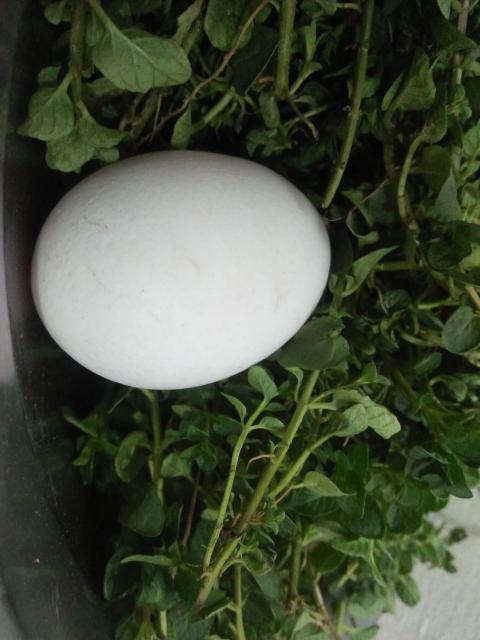Sano: (28, 148, 330, 389)
